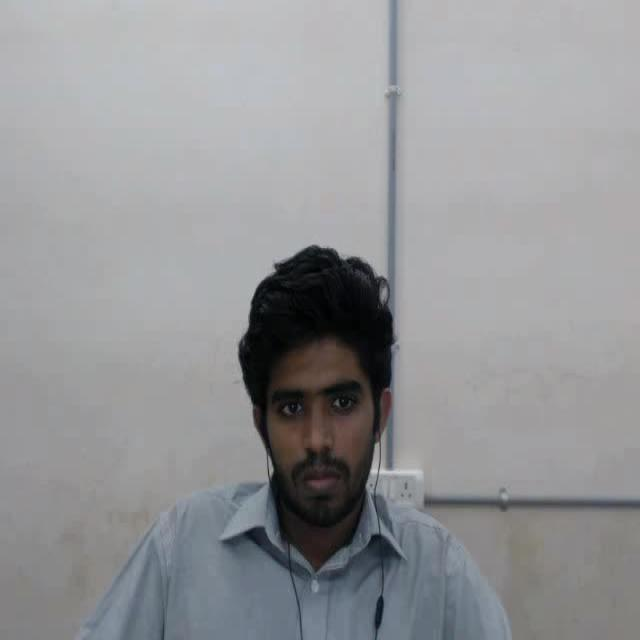Engaged: (219, 220, 410, 560)
